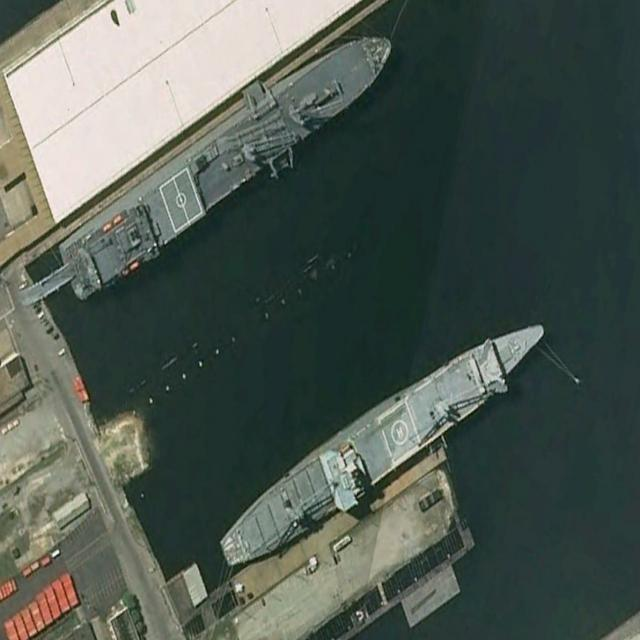Cargo: (55, 11, 405, 310), (210, 296, 557, 590)
